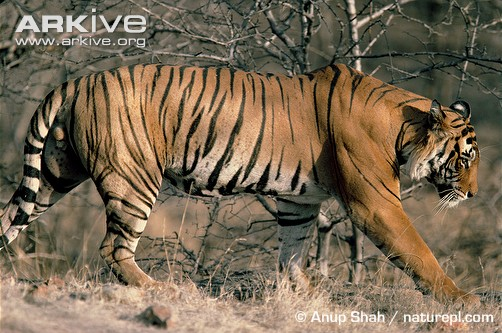Tigre: (39, 56, 477, 284)
